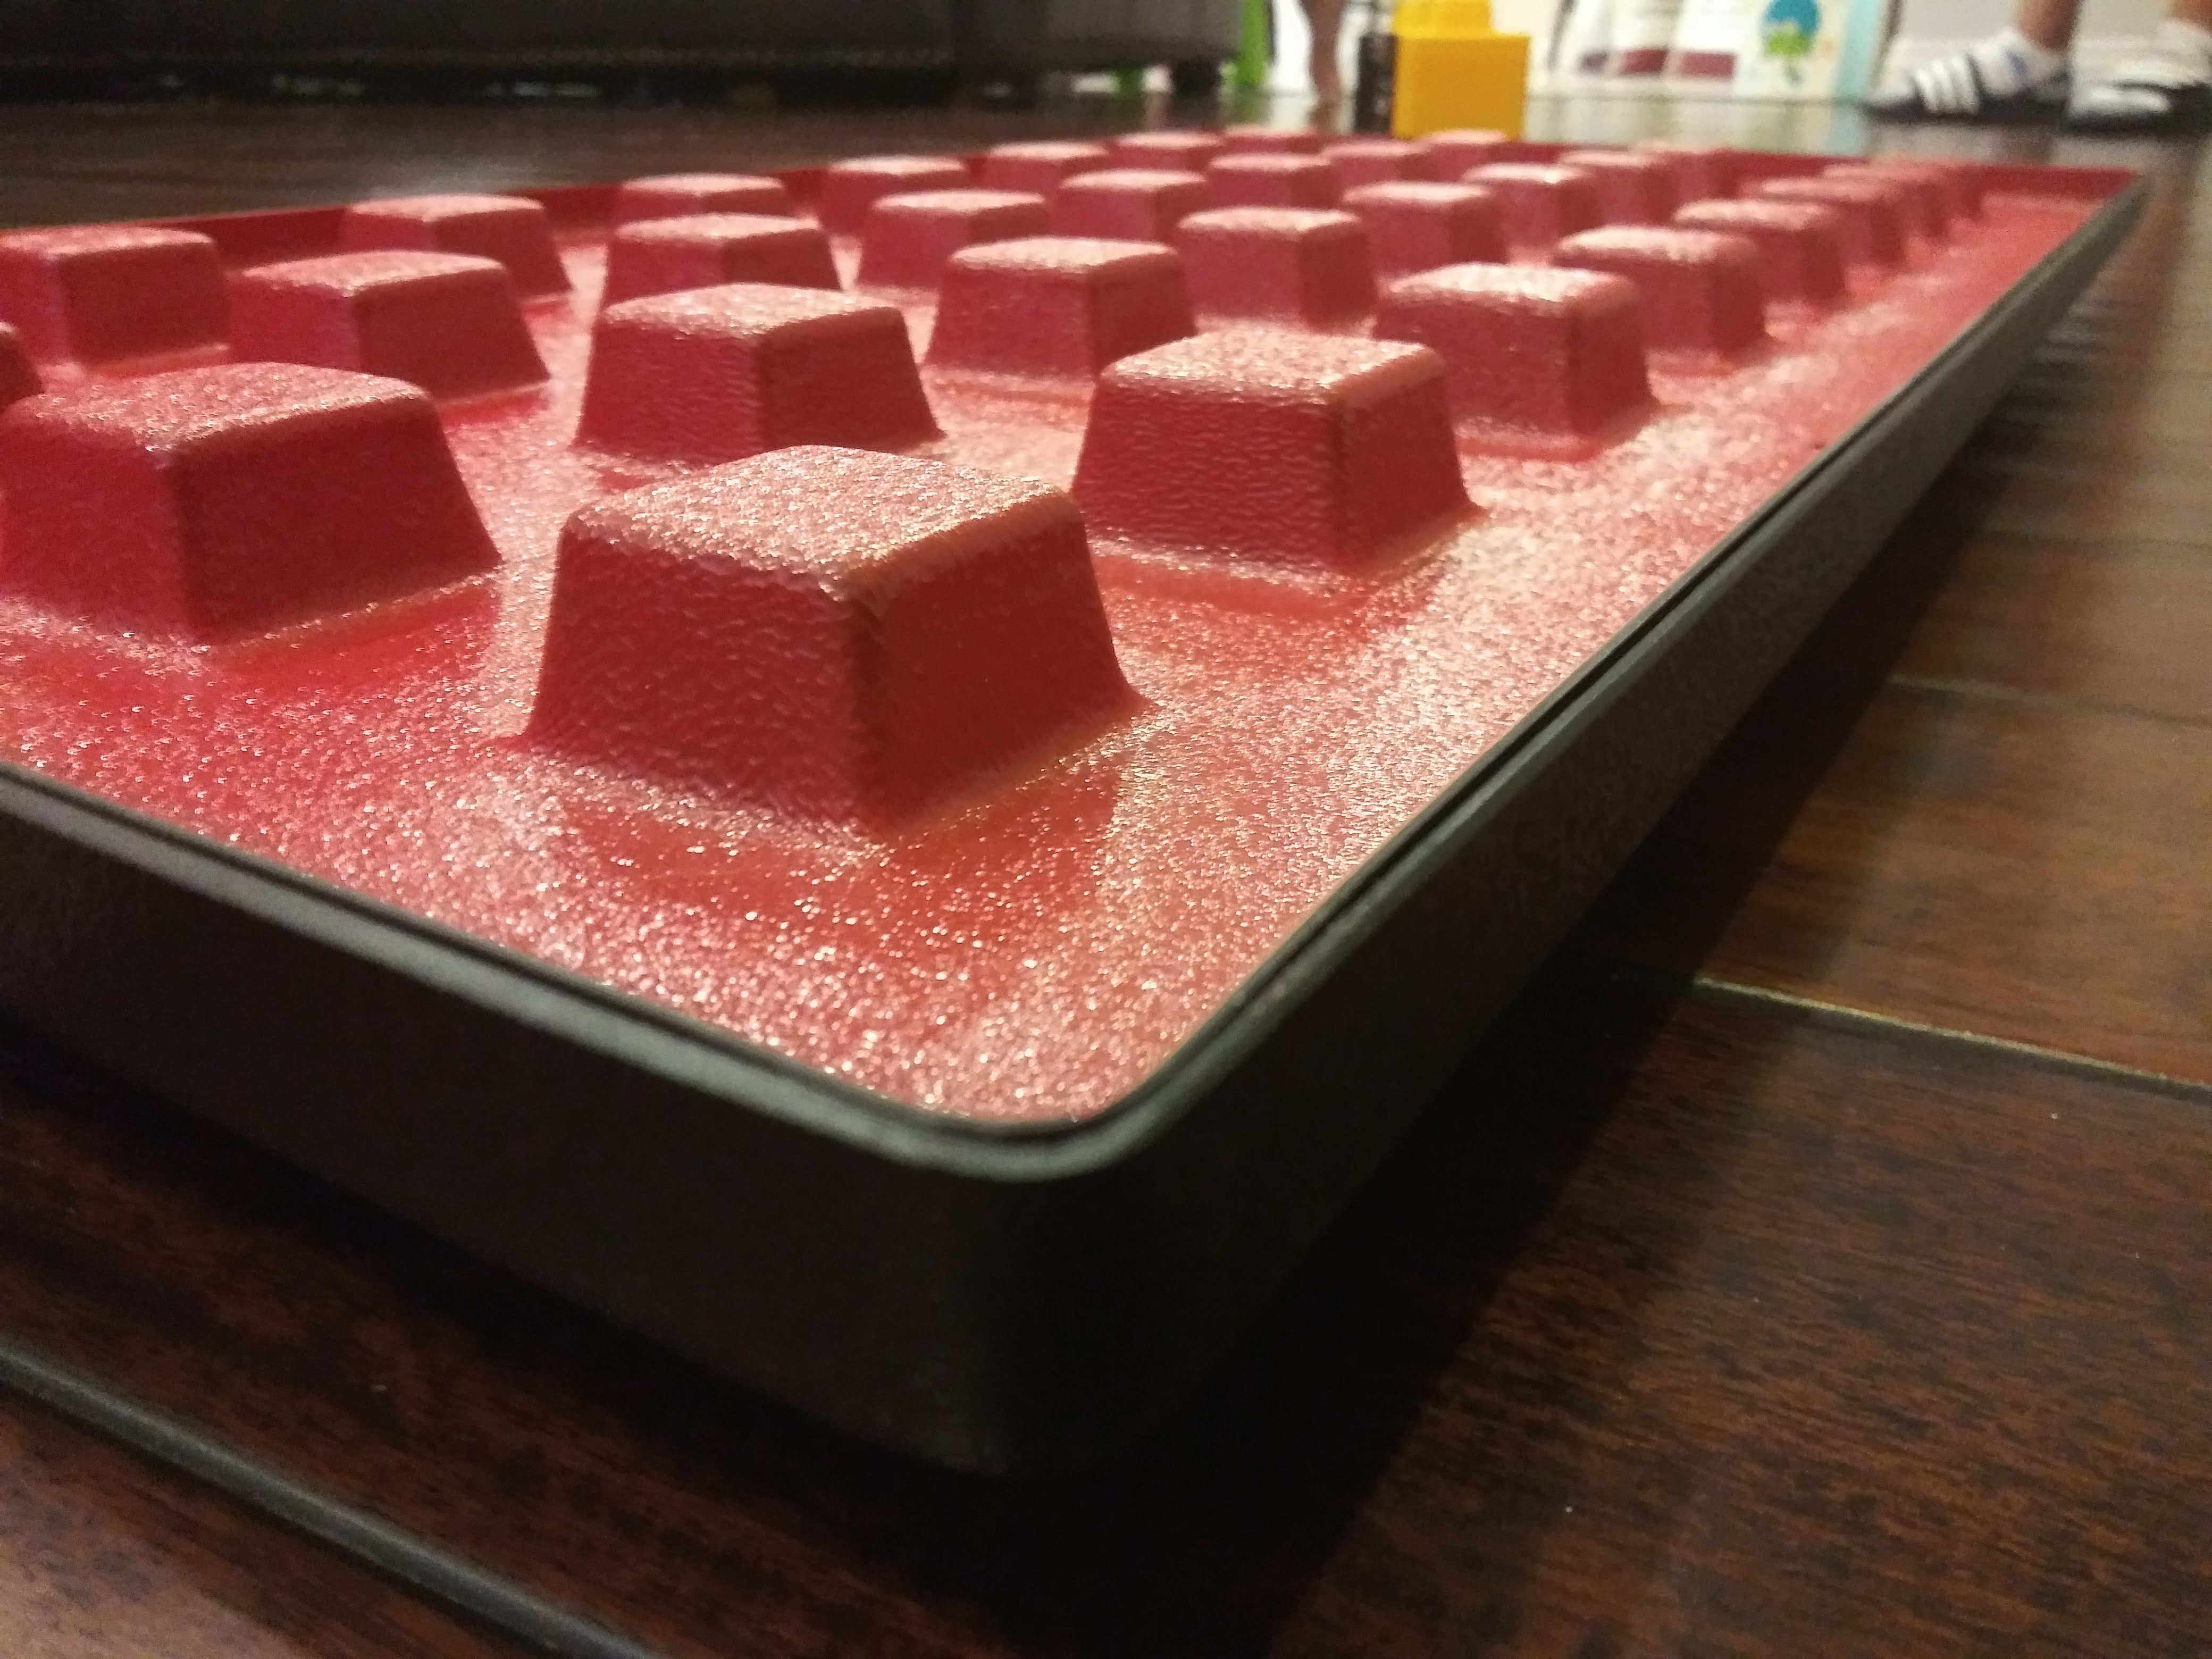red foundation: (16, 122, 2153, 1133)
